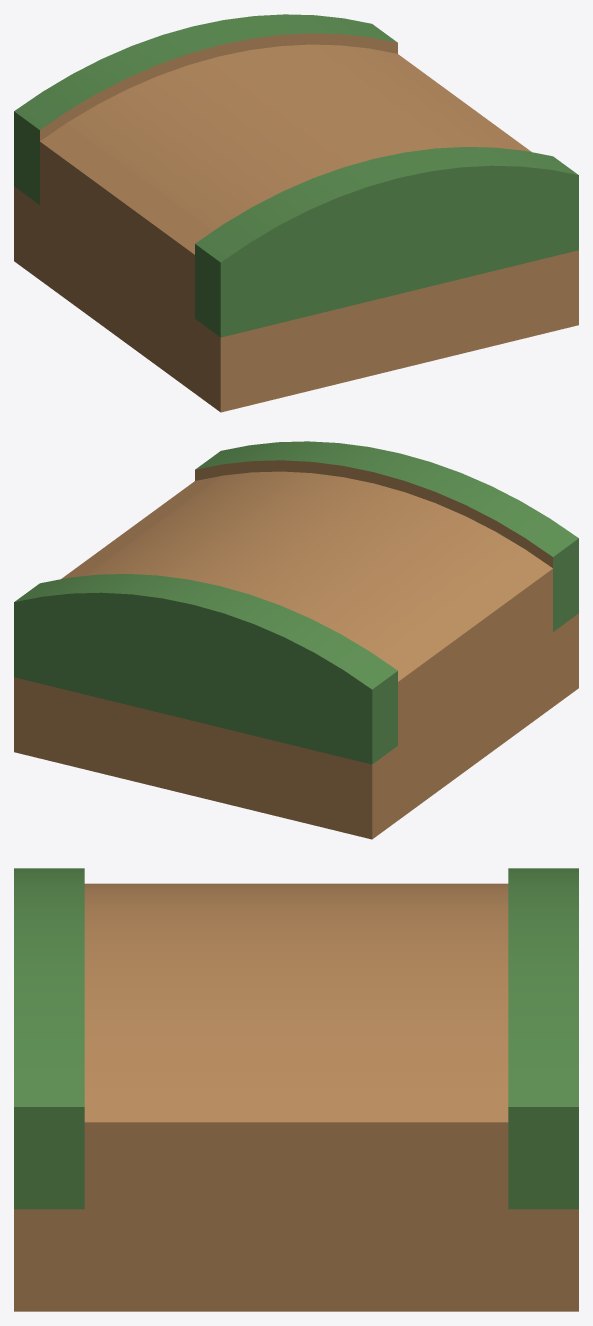
The model's file is tile_082.dae.
3 renders of one model, top to bottom at view 1: azimuth 30°, elevation 25°; view 2: azimuth 150°, elevation 25°; view 3: azimuth 270°, elevation 25°, orthographic. The views are drawn at different scales.
Visible parts, largest first — view 1: tile_082; view 2: tile_082; view 3: tile_082.
Part boxes in pixels (bbox=[...]): tile_082: bbox=[14, 14, 578, 412]; tile_082: bbox=[14, 441, 578, 839]; tile_082: bbox=[14, 868, 578, 1311].
Size of the model in its own units: 1 by 0.51 by 1.
